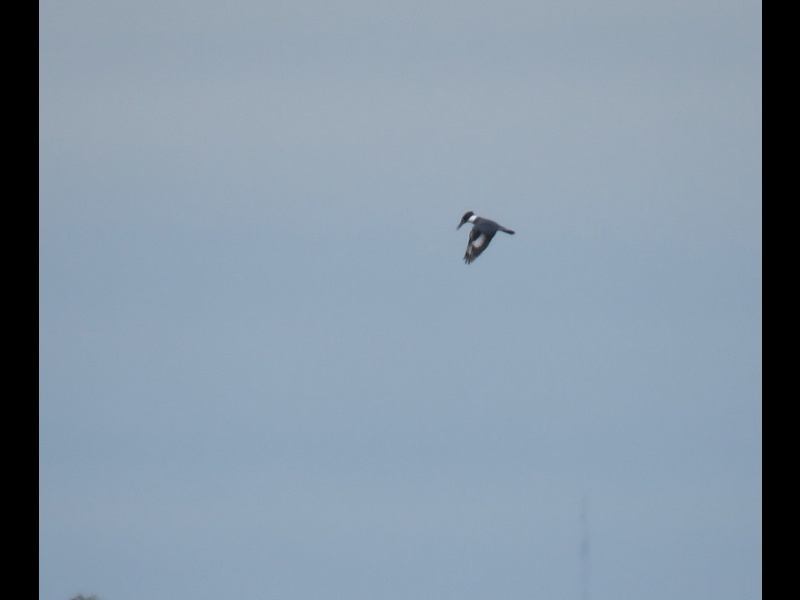kingfisher: (457, 210, 517, 265)
